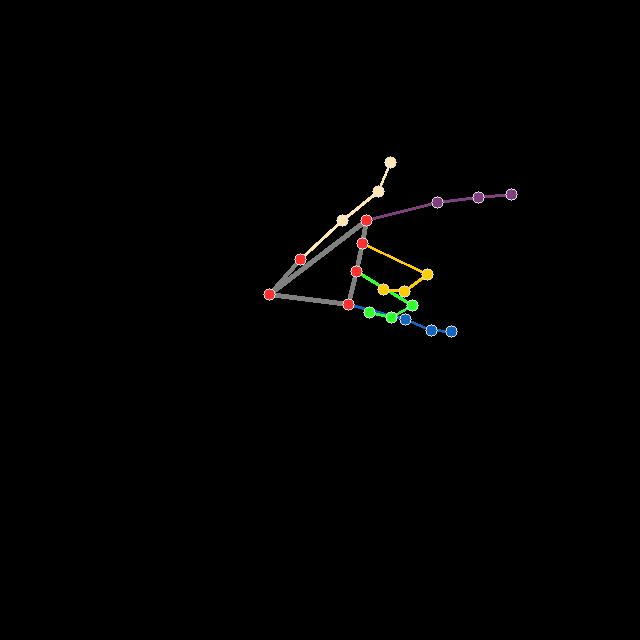spiderman: (264, 157, 517, 338)
